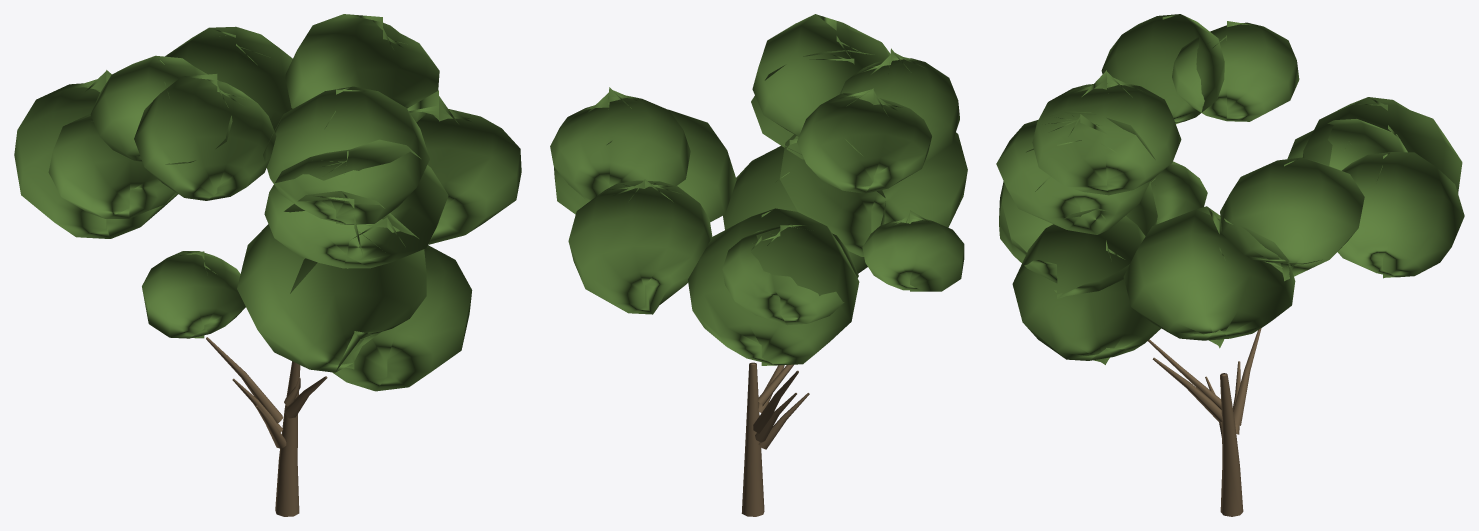
The model's file is field_oak_a_lod1.glb.
The picture shows the model from 3 angles, left to right: view 1: azimuth 30°, elevation 25°; view 2: azimuth 150°, elevation 25°; view 3: azimuth 270°, elevation 25°; orthographic projection. The views are drawn at different scales.
Parts seen in each view (by area): view 1: foliage, bark; view 2: foliage, bark; view 3: foliage, bark.
Boxes of the visible parts, x1,y1,x2,y2 form: foliage: (14,14,521,391); bark: (206,337,327,516); foliage: (550,14,967,365); bark: (741,362,809,516); foliage: (996,14,1464,364); bark: (1148,328,1261,516).
Size of the model in its own units: 6.2 by 7.38 by 7.01.
